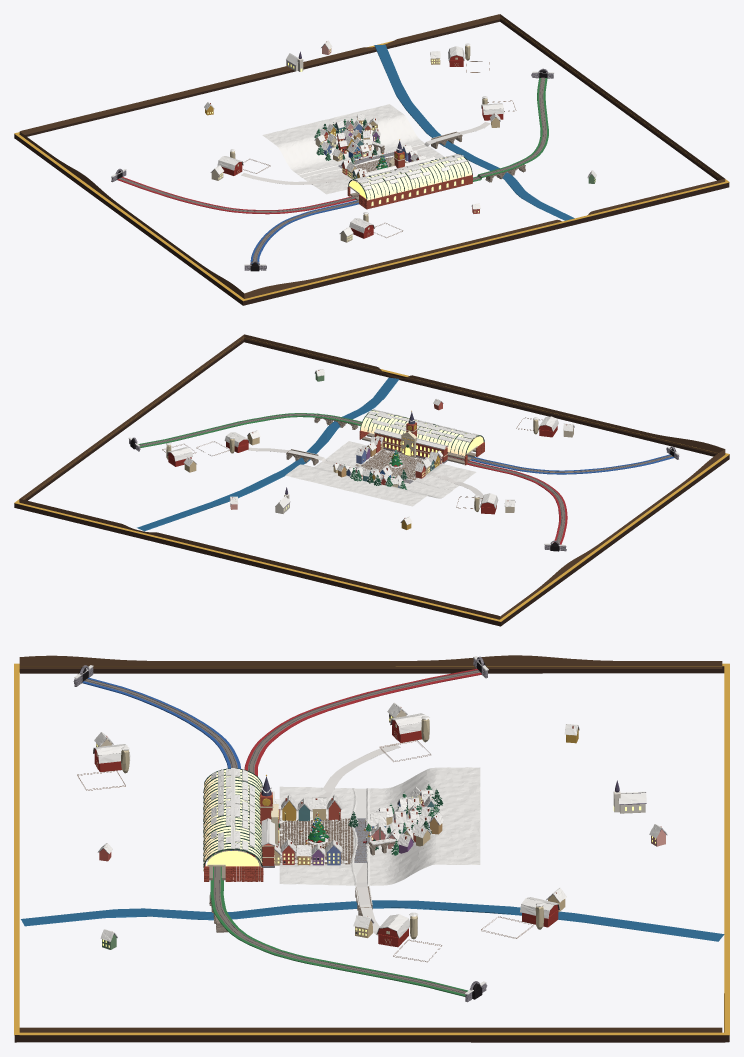
Rendered from static_lo.glb.
3 views of the same model, one above another, from view 1: azimuth 30°, elevation 25°; view 2: azimuth 150°, elevation 25°; view 3: azimuth 270°, elevation 25° (orthographic). The views are drawn at different scales.
Visible parts, largest first — view 1: BoardStrata, R_PlinthWood, GroundSnow, R_Snow, R_Gold, RiverResin, ShedGlass, Snow, Ballast, R_StationBrick, Roadbed_red, RoadSnow (+5 smaller); view 2: BoardStrata, R_PlinthWood, GroundSnow, R_Snow, R_Gold, RiverResin, Ballast, Snow, ShedGlass, Cobble, Roadbed_green, R_StationBrick (+6 smaller); view 3: GroundSnow, BoardStrata, R_PlinthWood, R_Gold, R_Snow, RiverResin, Snow, Ballast, ShedGlass, Cobble, StationIron, Roadbed_green (+8 smaller).
Boxes of the visible parts, x1,y1,x2,y2 form: BoardStrata: (19, 14, 725, 298); R_PlinthWood: (14, 19, 729, 305); GroundSnow: (262, 104, 444, 194); R_Snow: (111, 40, 596, 265); R_Gold: (14, 18, 729, 301); RiverResin: (374, 44, 574, 220); ShedGlass: (349, 157, 471, 200); Snow: (314, 113, 425, 177); Ballast: (119, 77, 546, 262); R_StationBrick: (347, 151, 472, 209); Roadbed_red: (117, 177, 355, 214); RoadSnow: (241, 122, 490, 184); BoardStrata: (19, 334, 725, 619); R_PlinthWood: (14, 338, 729, 626); GroundSnow: (285, 441, 476, 506); R_Snow: (128, 369, 679, 546); R_Gold: (14, 337, 729, 621); RiverResin: (137, 377, 399, 531); Ballast: (139, 413, 672, 543); Snow: (332, 436, 440, 489); ShedGlass: (361, 410, 483, 455); Cobble: (355, 449, 424, 482); Roadbed_green: (138, 413, 361, 447); R_StationBrick: (359, 422, 484, 465); GroundSnow: (279, 767, 480, 885); BoardStrata: (19, 655, 722, 1032); R_PlinthWood: (14, 666, 729, 1042); R_Gold: (14, 663, 729, 1035); R_Snow: (74, 656, 667, 994); RiverResin: (21, 900, 724, 941); Snow: (280, 786, 443, 856); Ballast: (84, 670, 480, 994); ShedGlass: (204, 770, 262, 862); Cobble: (278, 818, 369, 864); StationIron: (203, 768, 262, 867); Roadbed_green: (210, 851, 468, 996).
Size of what is drawn, in the model's own units: 324 by 33.64 by 264.
